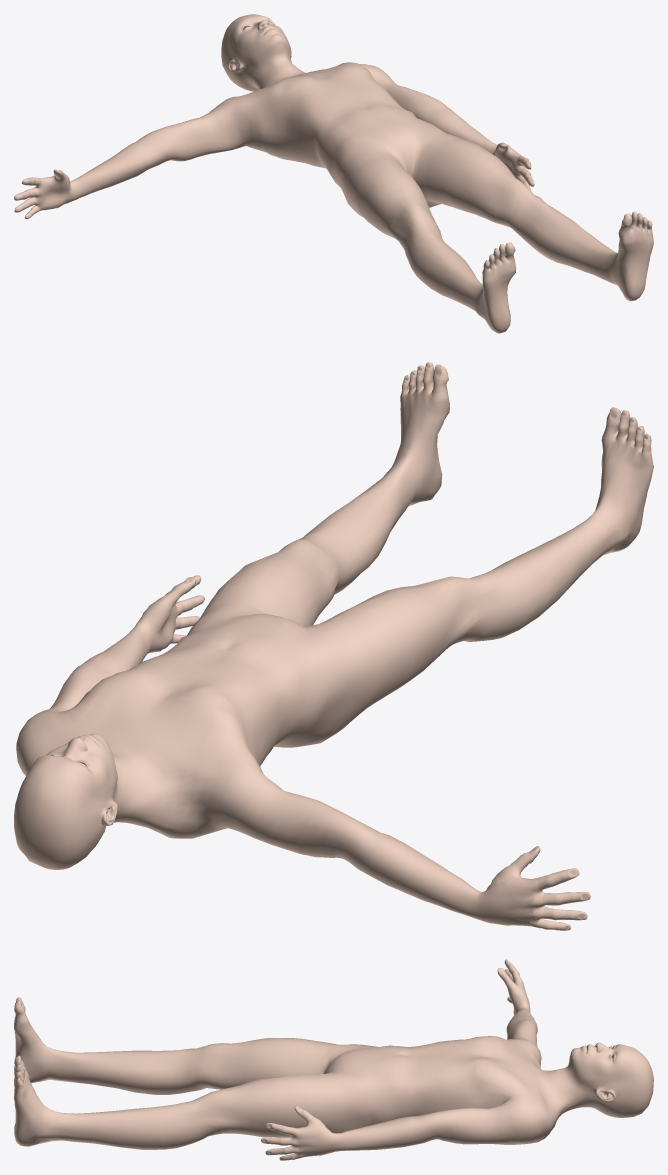
File: anat_body_patient.glb
3 renders of one model, top to bottom at view 1: azimuth 30°, elevation 25°; view 2: azimuth 150°, elevation 25°; view 3: azimuth 270°, elevation 25°, orthographic. The views are drawn at different scales.
Parts seen in each view (by area): view 1: anat_body_patient; view 2: anat_body_patient; view 3: anat_body_patient.
Boxes of the visible parts, bbox=[...] form: anat_body_patient: bbox=[14, 14, 653, 333]; anat_body_patient: bbox=[14, 362, 653, 930]; anat_body_patient: bbox=[14, 959, 653, 1160].
Bounding box in the file's own units: 1.19 × 0.3145 × 1.73.
